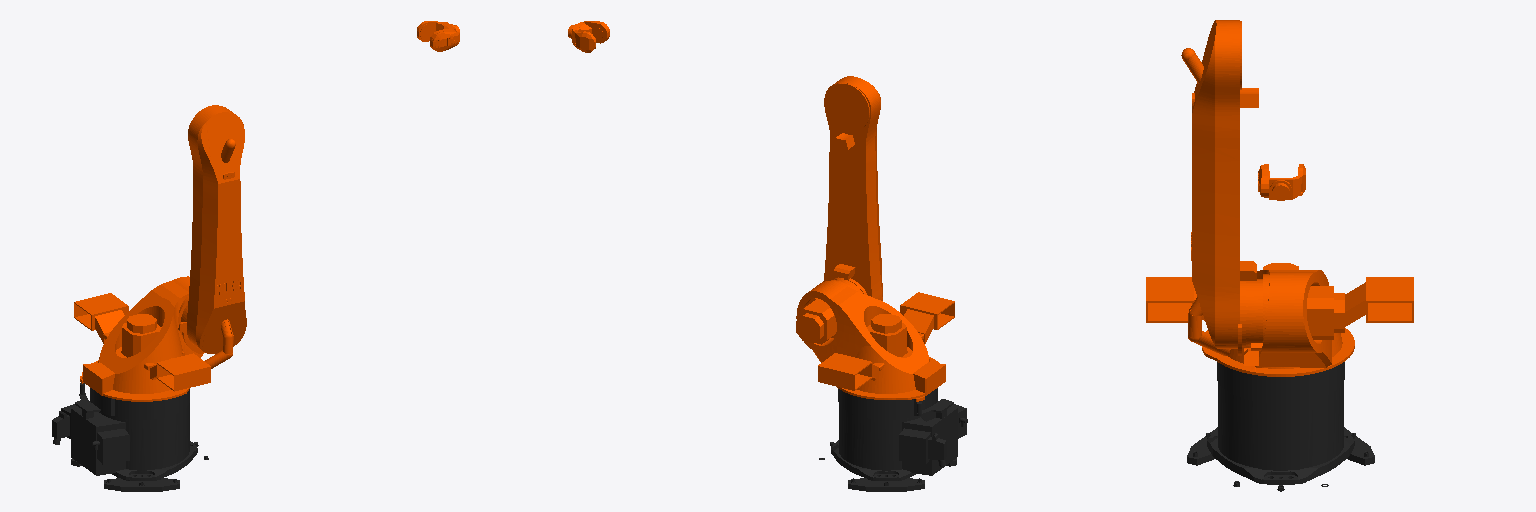
robot.urdf — kuka_kr30l16_2:
<?xml version="1.0"?>
<robot name="kuka_kr30l16_2">
  <material name="kuka_orange"><color rgba="1.00 0.40 0.00 1.0"/></material>
  <material name="kuka_dark_gray"><color rgba="0.20 0.20 0.20 1.0"/></material>

  <link name="base_link">
    <inertial>
      <origin xyz="-0.084375 0.003873 0.197833" rpy="0 0 0"/>
      <mass value="53.333"/>
      <inertia ixx="2.269346" ixy="0.044114" ixz="-0.044109" iyy="2.397176" iyz="-0.012690" izz="2.509737"/>
    </inertial>
    <visual>
      <origin xyz="0 0 0" rpy="0 0 0"/>
      <geometry><mesh filename="meshes/visual/base_link.stl"/></geometry>
      <material name="kuka_dark_gray"/>
    </visual>
    <collision>
      <origin xyz="0 0 0" rpy="0 0 0"/>
      <geometry><mesh filename="meshes/visual/base_link.stl"/></geometry>
    </collision>
  </link>

  <link name="link_1">
    <inertial>
      <origin xyz="0.096219 -0.000736 0.690511" rpy="0 0 0"/>
      <mass value="126.200"/>
      <inertia ixx="6.481100" ixy="-0.077523" ixz="-0.836432" iyy="3.955427" iyz="-0.159097" izz="8.025833"/>
    </inertial>
    <visual>
      <origin xyz="0 0 0" rpy="0 0 0"/>
      <geometry><mesh filename="meshes/visual/link_1.stl"/></geometry>
      <material name="kuka_orange"/>
    </visual>
    <collision>
      <origin xyz="0 0 0" rpy="0 0 0"/>
      <geometry><mesh filename="meshes/visual/link_1.stl"/></geometry>
    </collision>
  </link>

  <link name="link_2">
    <inertial>
      <origin xyz="-0.000429 -0.243694 0.553743" rpy="0 0 0"/>
      <mass value="233.000"/>
      <inertia ixx="29.026468" ixy="-0.005104" ixz="-0.031724" iyy="29.115534" iyz="0.819278" izz="2.632229"/>
    </inertial>
    <visual>
      <origin xyz="0 0 0" rpy="0 0 0"/>
      <geometry><mesh filename="meshes/visual/link_2.stl"/></geometry>
      <material name="kuka_orange"/>
    </visual>
    <collision>
      <origin xyz="0 0 0" rpy="0 0 0"/>
      <geometry><mesh filename="meshes/visual/link_2.stl"/></geometry>
    </collision>
  </link>

  <link name="link_3">
    <inertial>
      <origin xyz="0.147734 0.003487 0.080090" rpy="0 0 0"/>
      <mass value="243.600"/>
      <inertia ixx="3.765871" ixy="0.837876" ixz="-1.637799" iyy="26.390827" iyz="-0.191286" izz="26.776463"/>
    </inertial>
    <visual>
      <origin xyz="0 0 0" rpy="0 0 0"/>
      <geometry><mesh filename="meshes/visual/link_3.stl"/></geometry>
      <material name="kuka_orange"/>
    </visual>
    <collision>
      <origin xyz="0 0 0" rpy="0 0 0"/>
      <geometry><mesh filename="meshes/visual/link_3.stl"/></geometry>
    </collision>
  </link>

  <link name="link_4">
    <inertial>
      <origin xyz="-0.112727 0.009414 -0.000045" rpy="0 0 0"/>
      <mass value="56.100"/>
      <inertia ixx="0.191241" ixy="-0.037050" ixz="0.000061" iyy="0.428292" iyz="-0.000207" izz="0.434261"/>
    </inertial>
    <visual>
      <origin xyz="0 0 0" rpy="0 0 0"/>
      <geometry><mesh filename="meshes/visual/link_4.stl"/></geometry>
      <material name="kuka_orange"/>
    </visual>
    <collision>
      <origin xyz="0 0 0" rpy="0 0 0"/>
      <geometry><mesh filename="meshes/visual/link_4.stl"/></geometry>
    </collision>
  </link>

  <link name="link_5">
    <inertial>
      <origin xyz="0.040777 -0.005783 0.000034" rpy="0 0 0"/>
      <mass value="34.000"/>
      <inertia ixx="0.151663" ixy="0.001535" ixz="0.000131" iyy="0.119247" iyz="0.000271" izz="0.194955"/>
    </inertial>
    <visual>
      <origin xyz="0 0 0" rpy="0 0 0"/>
      <geometry><mesh filename="meshes/visual/link_5.stl"/></geometry>
      <material name="kuka_orange"/>
    </visual>
    <collision>
      <origin xyz="0 0 0" rpy="0 0 0"/>
      <geometry><mesh filename="meshes/visual/link_5.stl"/></geometry>
    </collision>
  </link>

  <link name="link_6">
    <inertial>
      <origin xyz="-0.006862 -0.000001 -0.000003" rpy="0 0 0"/>
      <mass value="10.500"/>
      <inertia ixx="0.015159" ixy="0.000000" ixz="-0.000000" iyy="0.012714" iyz="-0.000027" izz="0.013228"/>
    </inertial>
    <visual>
      <origin xyz="0 0 0" rpy="0 0 0"/>
      <geometry><mesh filename="meshes/visual/link_6.stl"/></geometry>
      <material name="kuka_dark_gray"/>
    </visual>
    <collision>
      <origin xyz="0 0 0" rpy="0 0 0"/>
      <geometry><mesh filename="meshes/visual/link_6.stl"/></geometry>
    </collision>
  </link>

  <link name="tool0"/>

  <joint name="joint_a1" type="revolute">
    <parent link="base_link"/>
    <child link="link_1"/>
    <origin xyz="0.000000 0.000000 0.000000" rpy="0 0 0"/>
    <axis xyz="0.0 0.0 -1.0"/>
    <limit lower="-3.228859" upper="3.228859" effort="4250.0" velocity="1.764300"/>
    <dynamics damping="5.0" friction="1.0"/>
  </joint>

  <joint name="joint_a2" type="revolute">
    <parent link="link_1"/>
    <child link="link_2"/>
    <origin xyz="0.350000 0.000000 0.815000" rpy="0 0 0"/>
    <axis xyz="0.0 1.0 0.0"/>
    <limit lower="-0.785398" upper="2.181662" effort="4250.0" velocity="1.415132"/>
    <dynamics damping="5.0" friction="1.0"/>
  </joint>

  <joint name="joint_a3" type="revolute">
    <parent link="link_2"/>
    <child link="link_3"/>
    <origin xyz="0.000000 0.000000 1.200000" rpy="0 0 0"/>
    <axis xyz="0.0 1.0 0.0"/>
    <limit lower="-3.665191" upper="1.186824" effort="4250.0" velocity="1.415132"/>
    <dynamics damping="5.0" friction="1.0"/>
  </joint>

  <joint name="joint_a4" type="revolute">
    <parent link="link_3"/>
    <child link="link_4"/>
    <origin xyz="1.545000 0.000000 0.145000" rpy="0 0 0"/>
    <axis xyz="-1.0 0.0 -0.0"/>
    <limit lower="-6.108652" upper="6.108652" effort="140.0" velocity="4.060562"/>
    <dynamics damping="5.0" friction="1.0"/>
  </joint>

  <joint name="joint_a5" type="revolute">
    <parent link="link_4"/>
    <child link="link_5"/>
    <origin xyz="0.000000 0.000000 0.000000" rpy="0 0 0"/>
    <axis xyz="0.0 1.0 0.0"/>
    <limit lower="-2.268928" upper="2.268928" effort="140.0" velocity="2.875886"/>
    <dynamics damping="5.0" friction="1.0"/>
  </joint>

  <joint name="joint_a6" type="revolute">
    <parent link="link_5"/>
    <child link="link_6"/>
    <origin xyz="0.158000 0.000000 0.000000" rpy="0 0 0"/>
    <axis xyz="-1.0 0.0 -0.0"/>
    <limit lower="-6.108652" upper="6.108652" effort="75.0" velocity="4.339738"/>
    <dynamics damping="5.0" friction="1.0"/>
  </joint>

  <joint name="link_6-tool0" type="fixed">
    <parent link="link_6"/>
    <child link="tool0"/>
    <origin xyz="0.000000 0.000000 0.000000" rpy="0 1.57079632679 0"/>
  </joint>
</robot>

--- What the picture shows (computed from the rendered views, not written in the file) ---
The picture shows the robot from 3 angles, left to right: view 1: azimuth 30°, elevation 25°; view 2: azimuth 150°, elevation 25°; view 3: azimuth 270°, elevation 25°; orthographic projection.
Model kuka_kr30l16_2 with 8 links and 7 joints (6 revolute, 1 fixed), rooted at base_link, posed all joints at 0.
Visible links, largest first — view 1: link_2, link_1, base_link, link_5; view 2: link_1, link_2, base_link, link_5; view 3: link_1, link_2, base_link, link_5.
Boxes of the visible links, bbox=[...] form: link_2: bbox=[178, 105, 246, 353]; link_1: bbox=[74, 276, 233, 401]; base_link: bbox=[52, 383, 208, 491]; link_5: bbox=[417, 21, 459, 51]; link_1: bbox=[796, 279, 954, 401]; link_2: bbox=[823, 76, 882, 300]; base_link: bbox=[819, 388, 967, 491]; link_5: bbox=[568, 21, 609, 52]; link_1: bbox=[1146, 263, 1413, 376]; link_2: bbox=[1181, 20, 1258, 355]; base_link: bbox=[1187, 362, 1374, 491]; link_5: bbox=[1258, 164, 1305, 200].
Bounding box of the posed robot: 2.52 × 1.13 × 2.26 m (x, y, z).
Meshes: 7 distinct files referenced, 4 mesh visuals loaded (4 binary STL); not drawn: 3 (reference not matched to a file when rendering).
